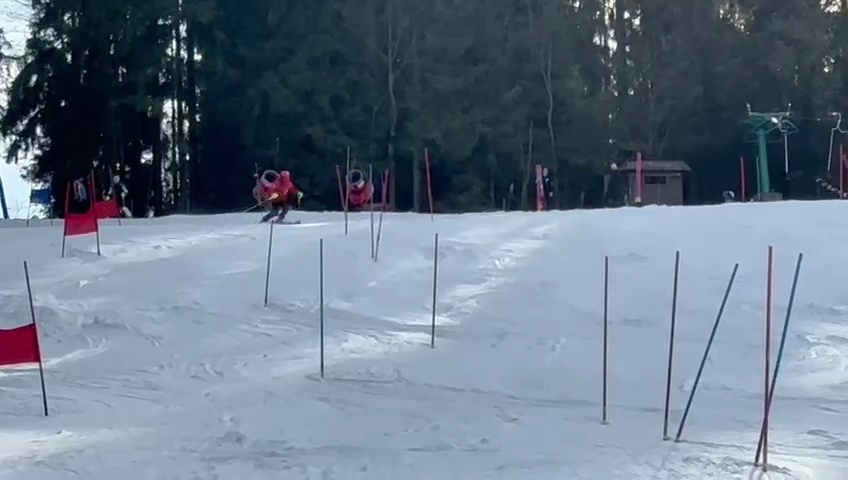gate: (674, 251, 745, 447), (752, 246, 805, 480), (16, 254, 58, 424), (0, 256, 39, 423), (662, 246, 680, 445), (596, 250, 614, 427), (313, 235, 333, 380), (427, 230, 444, 349), (332, 158, 354, 236), (86, 163, 104, 256), (108, 145, 128, 228), (260, 217, 278, 309), (377, 161, 392, 267), (59, 168, 75, 257), (365, 167, 378, 264), (421, 146, 437, 220), (369, 164, 380, 264), (0, 151, 13, 222), (380, 159, 391, 224), (535, 162, 547, 213), (531, 161, 542, 215)
